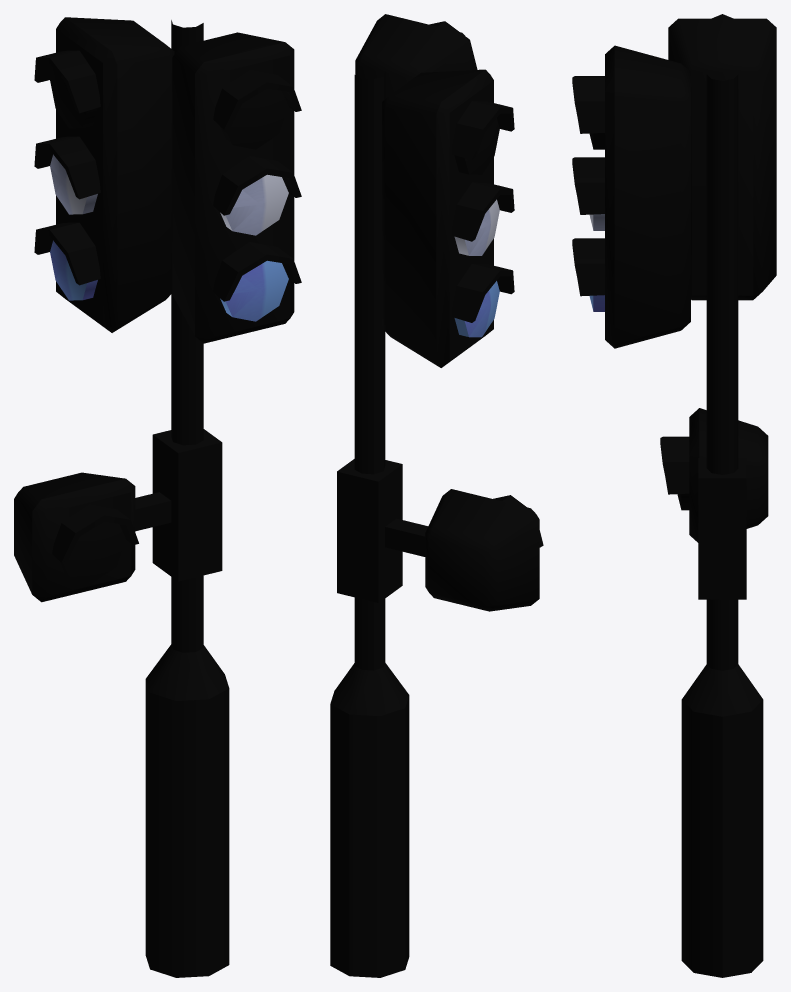
Rendered from Traffic light_Q6k7Izx6YD.glb.
The picture shows the model from 3 angles, left to right: view 1: azimuth 30°, elevation 25°; view 2: azimuth 150°, elevation 25°; view 3: azimuth 270°, elevation 25°; orthographic projection. The views are drawn at different scales.
Parts seen in each view (by area): view 1: trafficlight_A; view 2: trafficlight_A; view 3: trafficlight_A.
Part boxes in pixels (x1,y1,x2,y2): trafficlight_A: (14,17,301,977); trafficlight_A: (330,14,543,977); trafficlight_A: (572,14,776,977).
Bounding box in the file's own units: 0.1744 × 0.7295 × 0.1506.
Materials: 1 (1 with a texture image).
